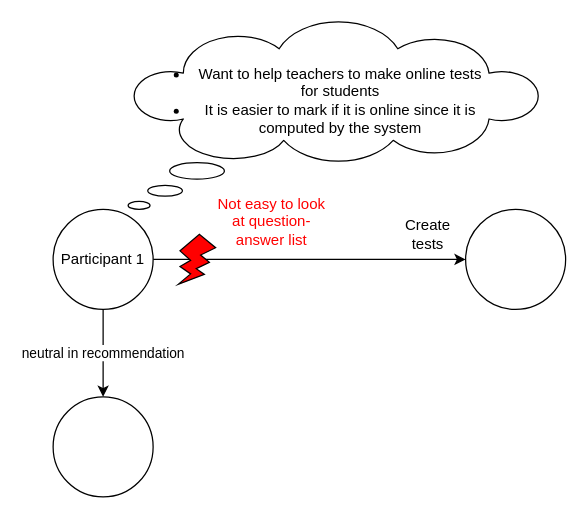
Image size: 588x519. Some labels were removed from this diagram. The centre of each missing label's shape, as x and y in pixels:
"Friends" goes at (x=102, y=446).
"TcExam" goes at (x=515, y=258).
